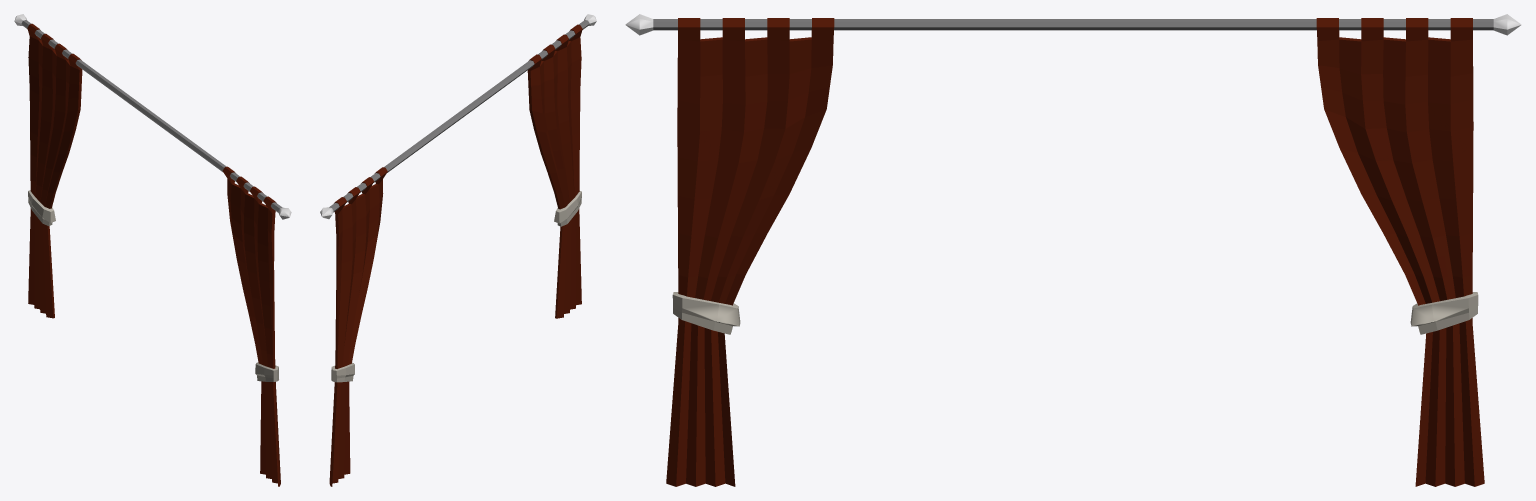
File: SM_curtains_03.glb
The picture shows the model from 3 angles, left to right: view 1: azimuth 30°, elevation 25°; view 2: azimuth 150°, elevation 25°; view 3: azimuth 270°, elevation 25°; orthographic projection. The views are drawn at different scales.
Parts seen in each view (by area): view 1: SM_curtains_03; view 2: SM_curtains_03; view 3: SM_curtains_03.
Part boxes in pixels (x1,y1,x2,y2): SM_curtains_03: [14, 14, 291, 486]; SM_curtains_03: [320, 14, 596, 486]; SM_curtains_03: [625, 14, 1521, 486].
Size of the model in its own units: 0.1373 by 2.63 by 4.59.
2 materials, 1 textured.
